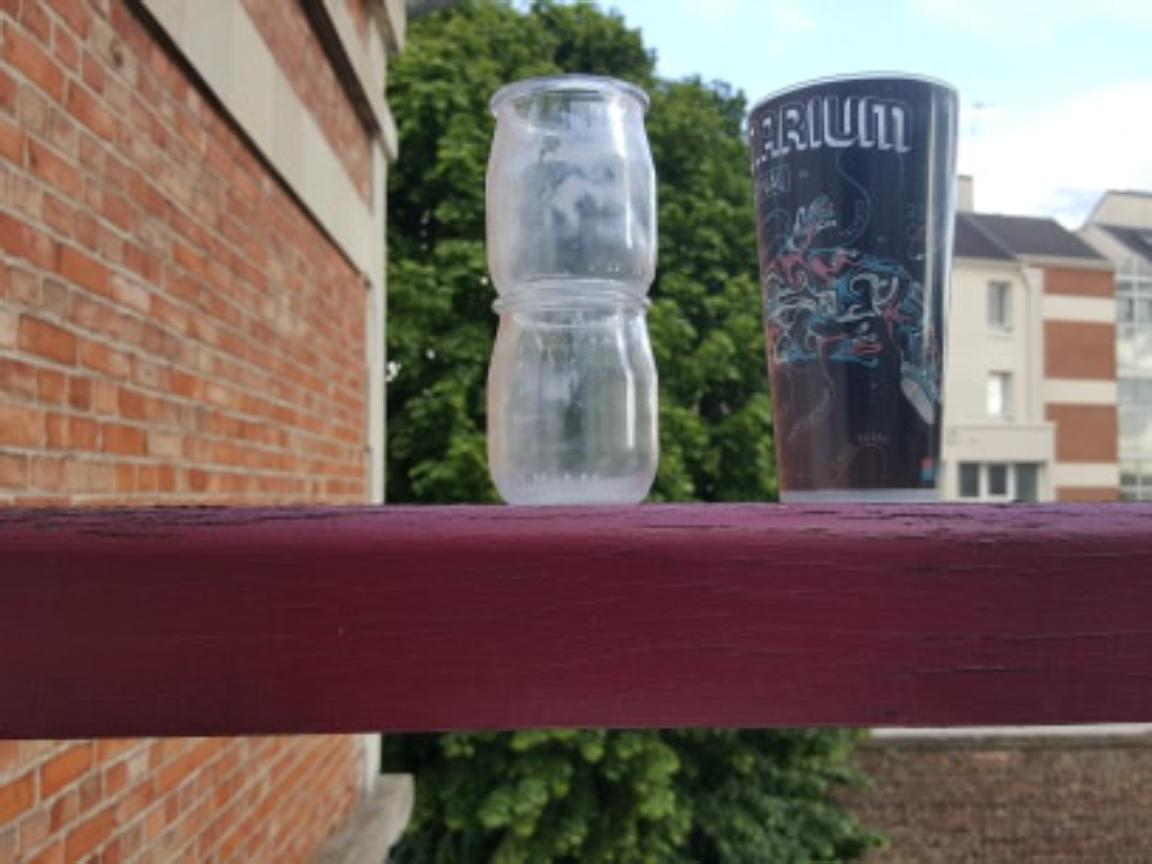ecocup: (743, 76, 962, 507)
